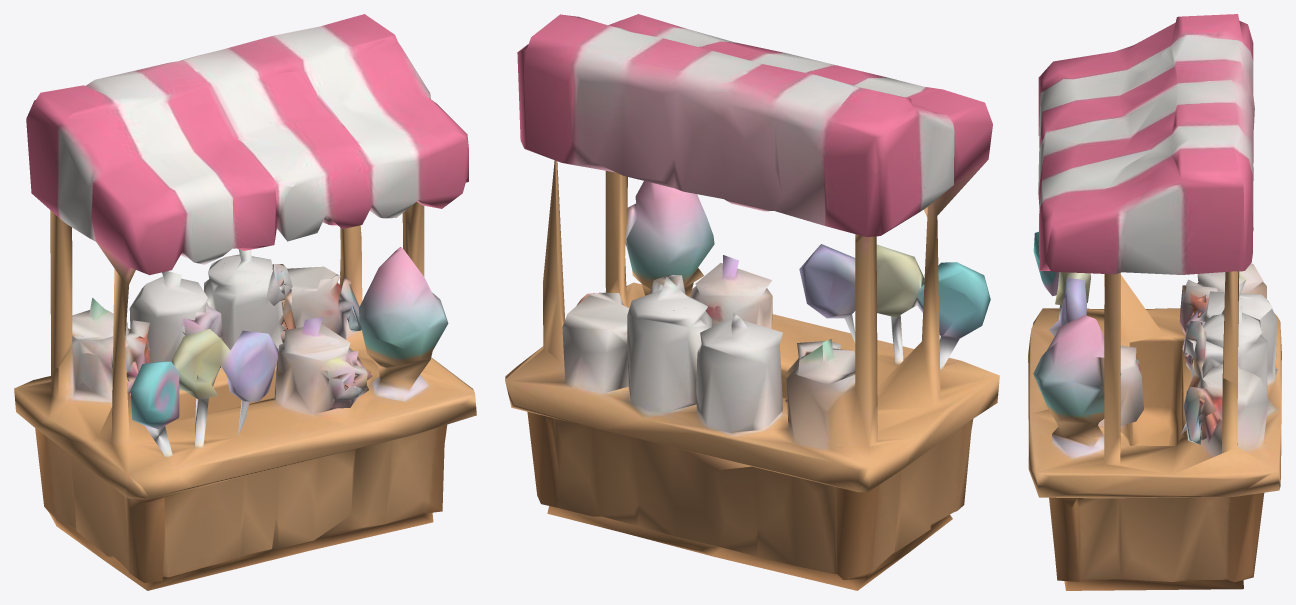
File: stand-confiserie.glb
3 renders of one model, left to right at view 1: azimuth 30°, elevation 25°; view 2: azimuth 150°, elevation 25°; view 3: azimuth 270°, elevation 25°, orthographic. The views are drawn at different scales.
Visible parts, largest first — view 1: tripo_node_eea0acd4-a09a-4881-bdd1-1e808adf4af6; view 2: tripo_node_eea0acd4-a09a-4881-bdd1-1e808adf4af6; view 3: tripo_node_eea0acd4-a09a-4881-bdd1-1e808adf4af6.
Part boxes in pixels (left/top/right/bottom): tripo_node_eea0acd4-a09a-4881-bdd1-1e808adf4af6: left=14, top=14, right=476, bottom=590; tripo_node_eea0acd4-a09a-4881-bdd1-1e808adf4af6: left=505, top=14, right=999, bottom=590; tripo_node_eea0acd4-a09a-4881-bdd1-1e808adf4af6: left=1028, top=14, right=1281, bottom=590.
Size of the model in its own units: 0.8326 by 1 by 0.5305.
Materials: 1 (1 with a texture image).
